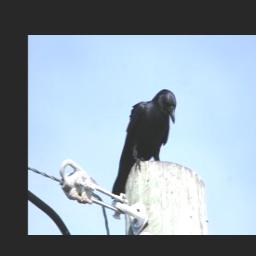Crow: (112, 88, 178, 201)
